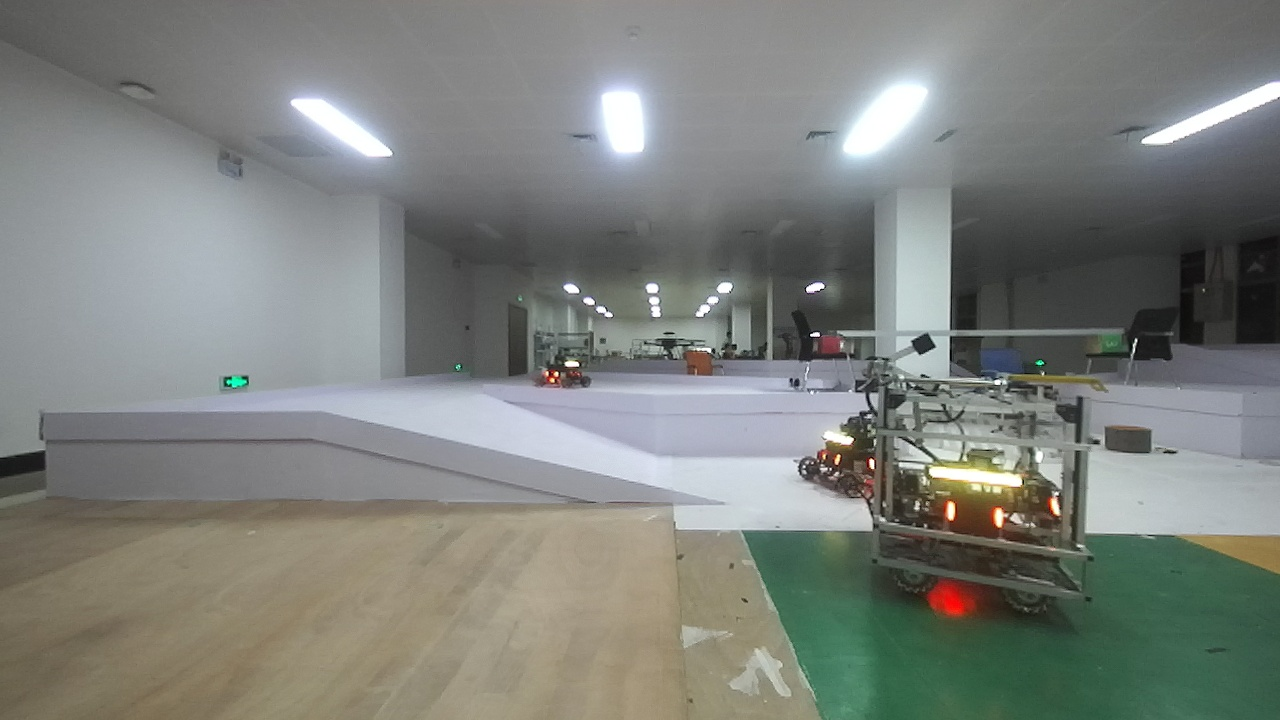car: (855, 379, 1108, 630), (802, 416, 890, 501), (530, 352, 596, 392)
